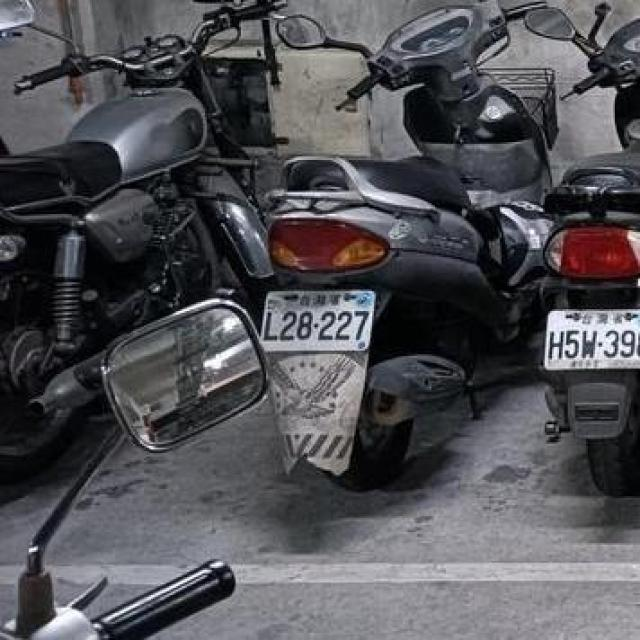W: (255, 275, 381, 361), (539, 297, 640, 379)
